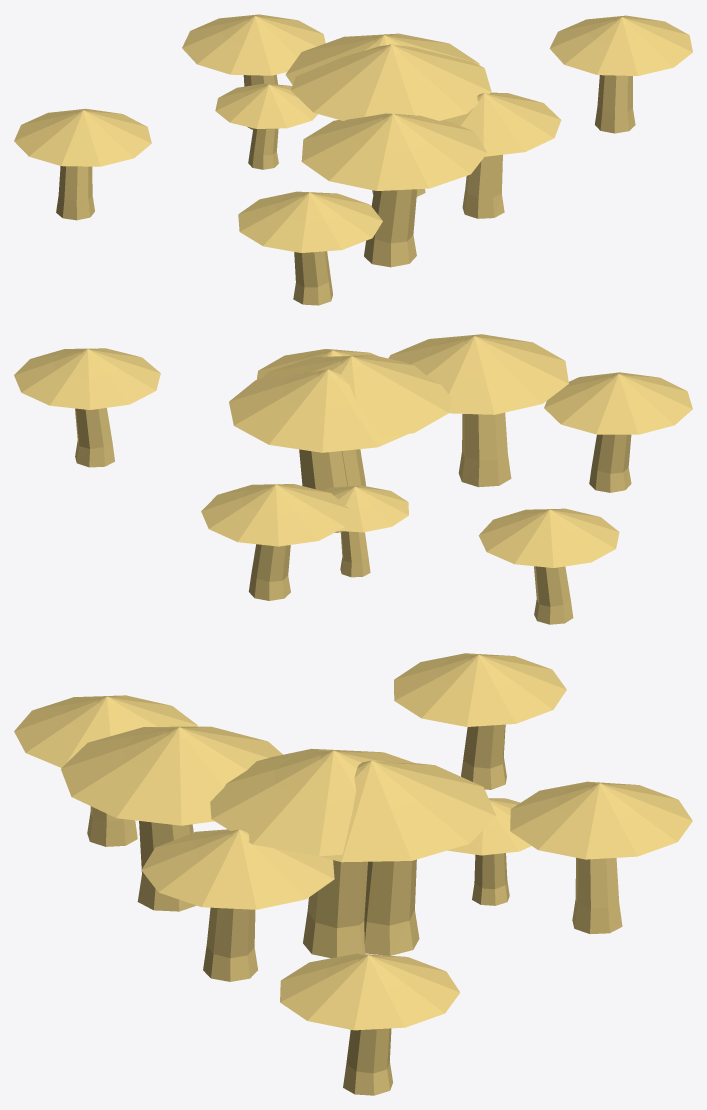
Rendered from temperate-forest-ecology-chanterelle-group-a270c724__3863.glb.
3 views of the same model, one above another, from view 1: azimuth 30°, elevation 25°; view 2: azimuth 150°, elevation 25°; view 3: azimuth 270°, elevation 25° (orthographic). The views are drawn at different scales.
Parts seen in each view (by area): view 1: chanterelle-group; view 2: chanterelle-group; view 3: chanterelle-group.
Part boxes in pixels (x1,y1,x2,y2): chanterelle-group: [14, 14, 692, 305]; chanterelle-group: [14, 334, 692, 624]; chanterelle-group: [14, 653, 692, 1095].
Size of the model in its own units: 0.4078 by 0.0938 by 0.3071.
